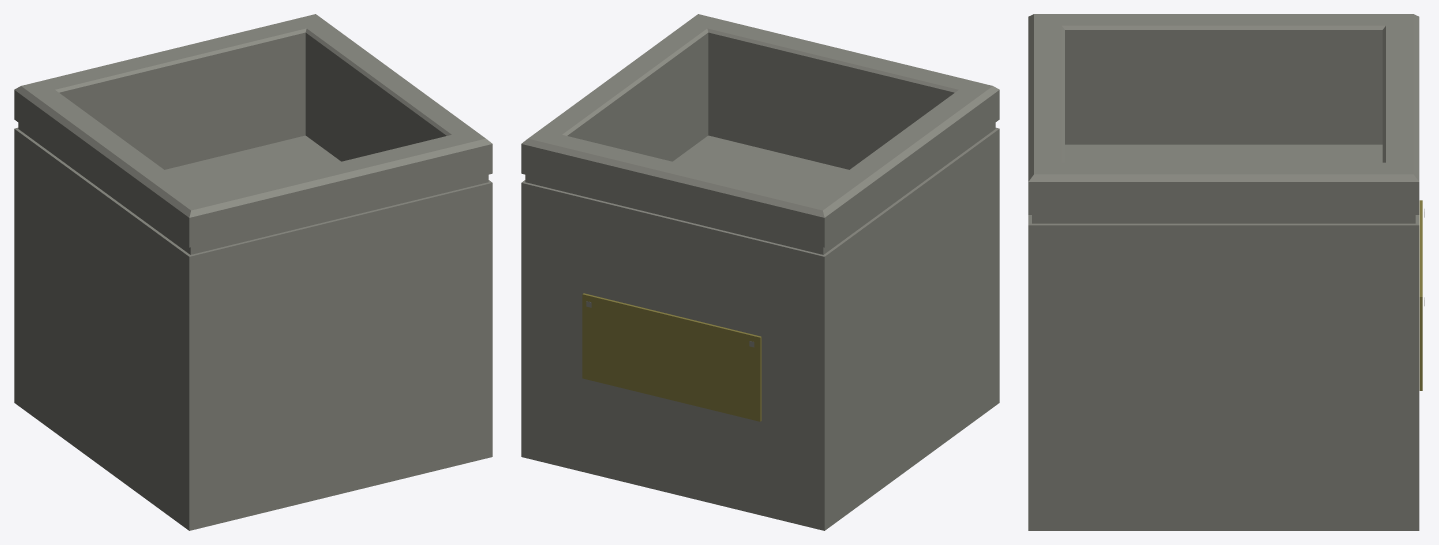
Rendered from Pots_type_5.fbx.
3 views of the same model, side by side, from view 1: azimuth 30°, elevation 25°; view 2: azimuth 150°, elevation 25°; view 3: azimuth 270°, elevation 25° (orthographic). The views are drawn at different scales.
Parts seen in each view (by area): view 1: Box_type_5; view 2: Box_type_5; view 3: Box_type_5.
Boxes of the visible parts, x1,y1,x2,y2 form: Box_type_5: (14, 14, 492, 530); Box_type_5: (521, 14, 999, 530); Box_type_5: (1028, 14, 1424, 530).
Size of the model in its own units: 63.02 by 63.02 by 63.88.
